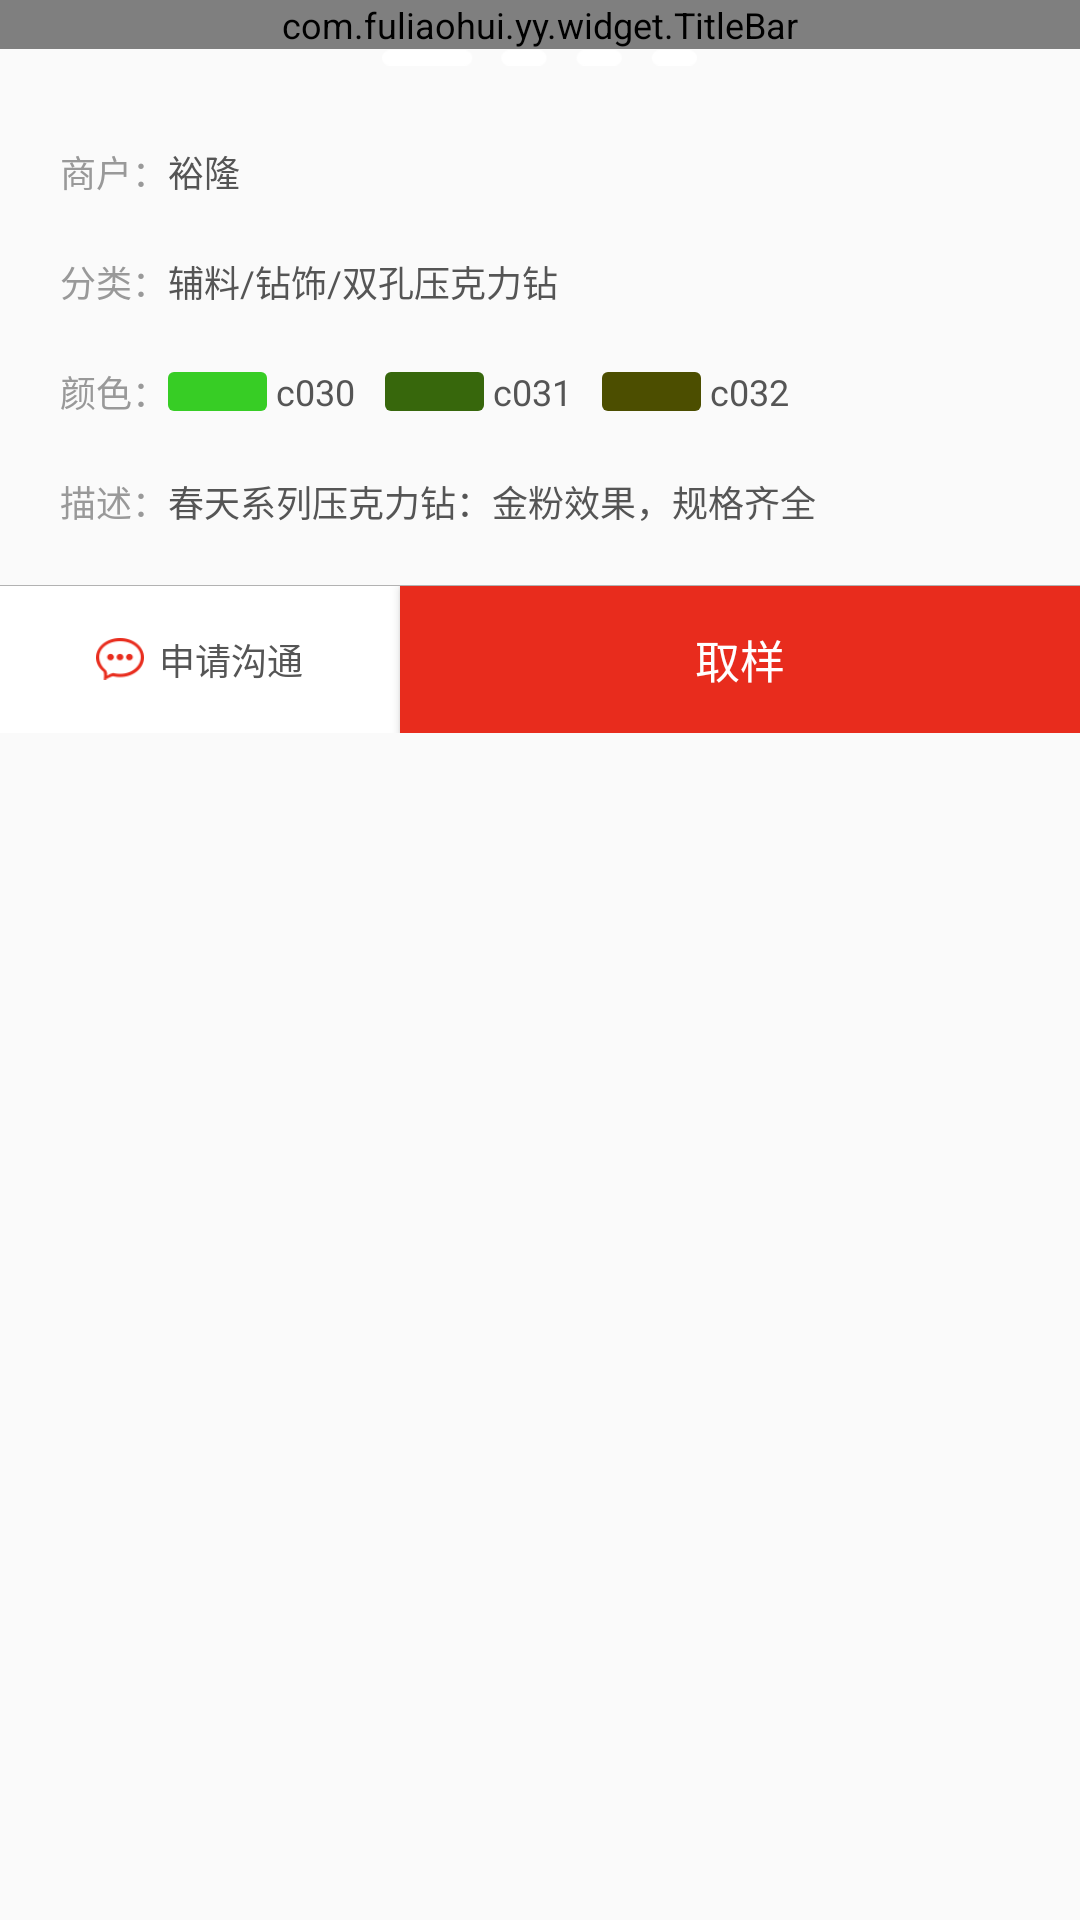

Icon click points for this 1080x1920 phone screenshot, format [x,y]:
talk: [120,659]
